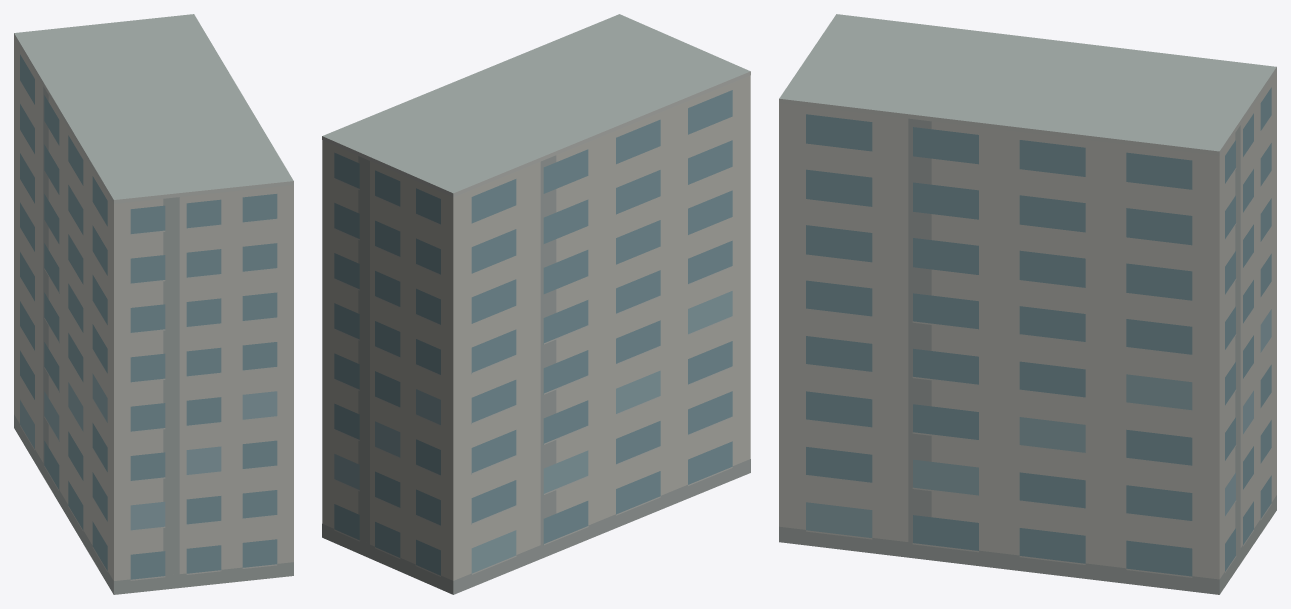
Rendered from survey-upis-33015755.glb.
3 renders of one model, left to right at view 1: azimuth 30°, elevation 25°; view 2: azimuth 150°, elevation 25°; view 3: azimuth 270°, elevation 25°, orthographic. The views are drawn at different scales.
Visible parts, largest first — view 1: survey-upis-33015755.tmp; view 2: survey-upis-33015755.tmp; view 3: survey-upis-33015755.tmp.
Boxes of the visible parts, box(x1,y1,x2,y2) form: survey-upis-33015755.tmp: box(14, 14, 293, 594); survey-upis-33015755.tmp: box(322, 14, 750, 594); survey-upis-33015755.tmp: box(779, 14, 1276, 594).
Size of the model in its own units: 16.23 by 24.4 by 24.83.
